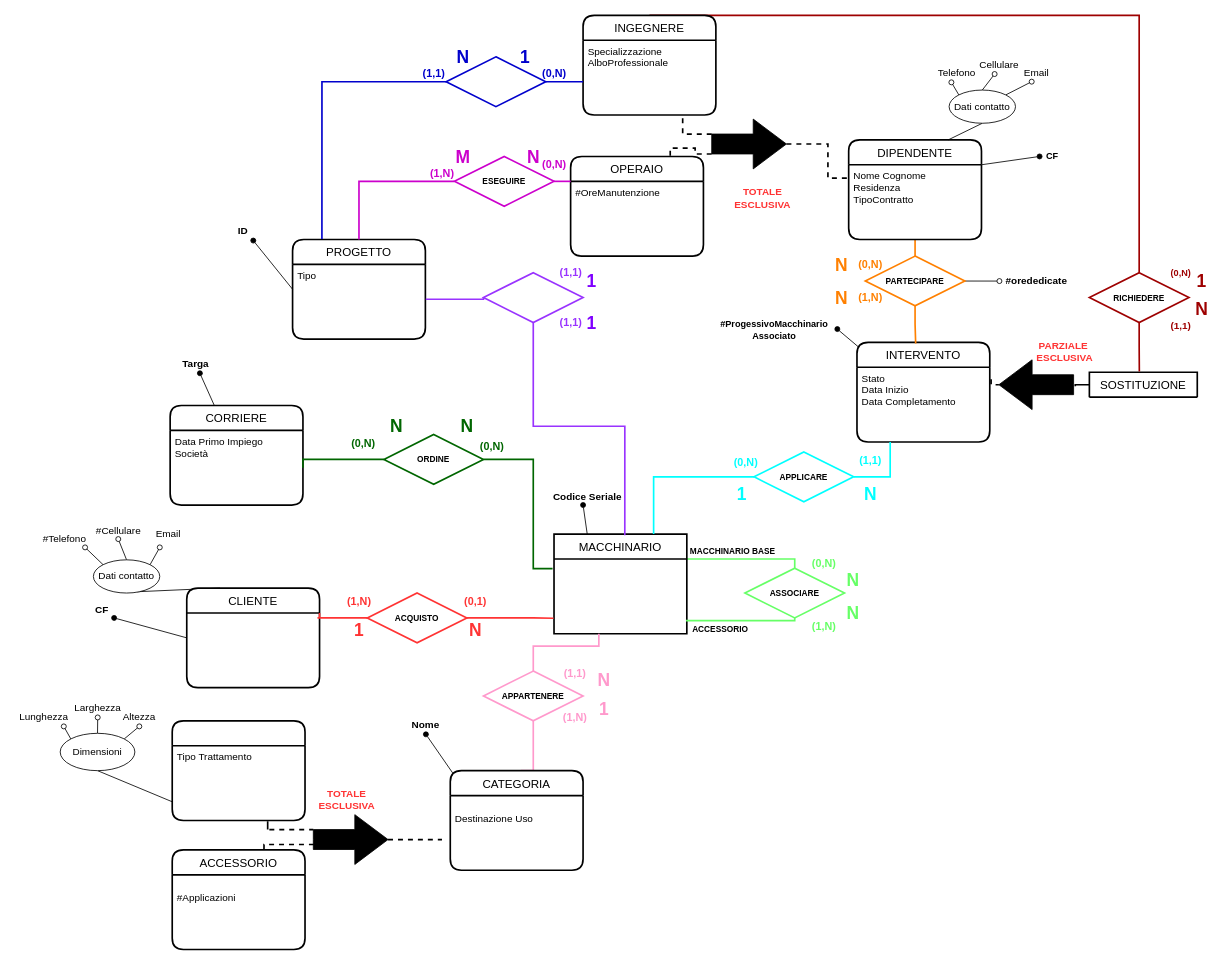
Some shapes in this 1228 by 964 pixel diagram are drawn without their labels. The shapes that lost their labels are listed below. From the top down, each one's box as (x1, y1, x2, y2) in pixels, then its label:
(445, 56, 546, 107): SUPERVISIONARE
(482, 271, 583, 323): REALIZZARE
(553, 533, 687, 634): Prezzo #lotto descrizione
(186, 587, 320, 688): Nome Cognome residenza #acquisti
(171, 720, 305, 821): BASE
